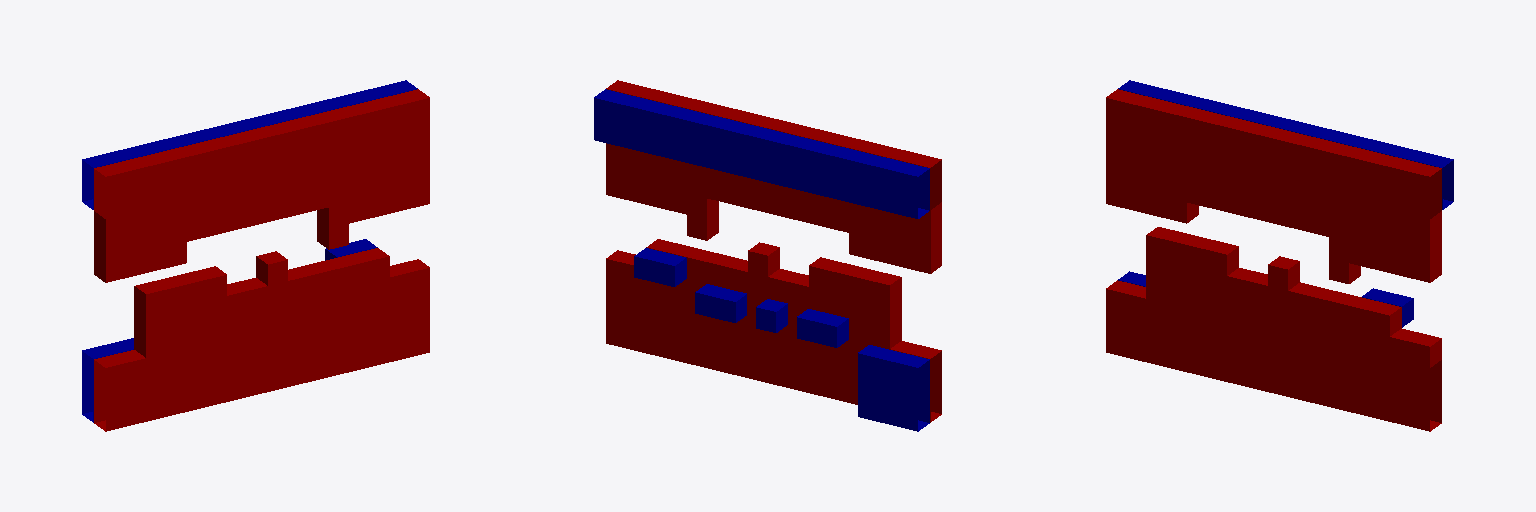
File: Colby10NoMat.obj
The picture shows the model from 3 angles: view 1: azimuth 30°, elevation 25°; view 2: azimuth 150°, elevation 25°; view 3: azimuth 330°, elevation 25°; orthographic projection.
Visible parts, largest first — view 1: Plane.001, Plane.001_Plane.000; view 2: Plane.001, Plane.001_Plane.000; view 3: Plane.001, Plane.001_Plane.000.
Part boxes in pixels (x1,y1,x2,y2): Plane.001: (94, 89, 429, 431); Plane.001_Plane.000: (82, 80, 417, 422); Plane.001: (606, 80, 941, 422); Plane.001_Plane.000: (594, 89, 929, 431); Plane.001: (1106, 89, 1441, 431); Plane.001_Plane.000: (1118, 80, 1453, 327).
Size of the model in its own units: 16 by 12 by 2.04.